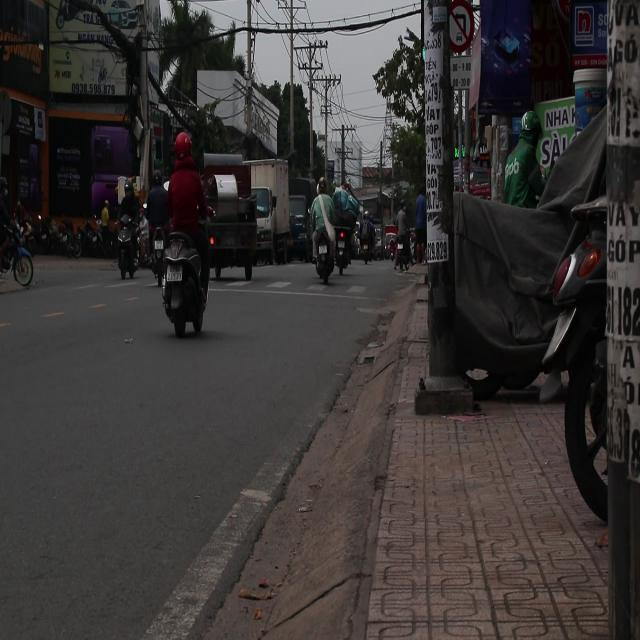motorbike: (157, 227, 207, 338), (0, 175, 42, 304), (306, 204, 339, 290), (334, 202, 358, 282), (116, 218, 144, 281)
truck: (202, 155, 289, 280), (286, 183, 312, 264)
